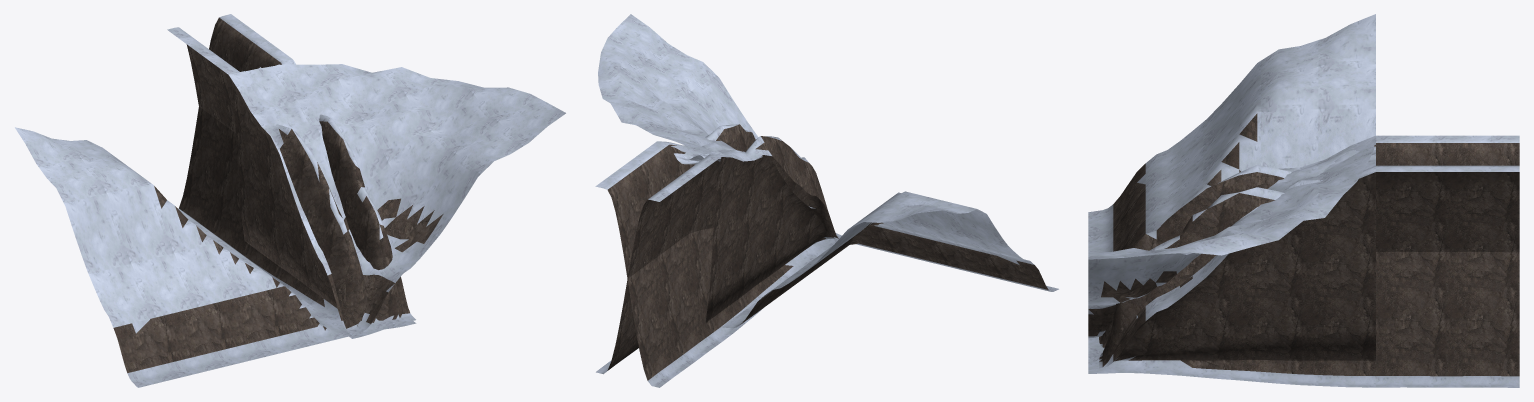
File: bk_coast_land_winter.glb
3 views of the same model, side by side, from view 1: azimuth 30°, elevation 25°; view 2: azimuth 150°, elevation 25°; view 3: azimuth 270°, elevation 25° (orthographic). The views are drawn at different scales.
Parts seen in each view (by area): view 1: corner_inner, corner_outer, endcap_sea_to_land, endcap_land_to_sea, pass12, straight12_a, straight6; view 2: endcap_sea_to_land, corner_outer, pass12, corner_inner, endcap_land_to_sea, straight12_a; view 3: endcap_land_to_sea, pass12, corner_inner, endcap_sea_to_land, corner_outer, straight12_a.
Part boxes in pixels (<box>): corner_inner: <box>15,127,351,387</box>; corner_outer: <box>229,64,565,335</box>; endcap_sea_to_land: <box>179,14,411,338</box>; endcap_land_to_sea: <box>167,27,416,331</box>; pass12: <box>229,76,415,335</box>; straight12_a: <box>240,60,414,333</box>; straight6: <box>246,67,376,325</box>; endcap_sea_to_land: <box>595,124,837,387</box>; corner_outer: <box>598,14,841,239</box>; pass12: <box>705,157,836,322</box>; corner_inner: <box>722,191,1058,328</box>; endcap_land_to_sea: <box>596,136,839,374</box>; straight12_a: <box>660,141,815,208</box>; endcap_land_to_sea: <box>1088,135,1519,387</box>; pass12: <box>1088,172,1375,369</box>; corner_inner: <box>1088,14,1375,251</box>; endcap_sea_to_land: <box>1099,165,1519,368</box>; corner_outer: <box>1088,135,1375,337</box>; straight12_a: <box>1089,146,1375,369</box>.
Size of the model in its own units: 80 by 33.26 by 60.
Materials: 3 (3 with a texture image).
